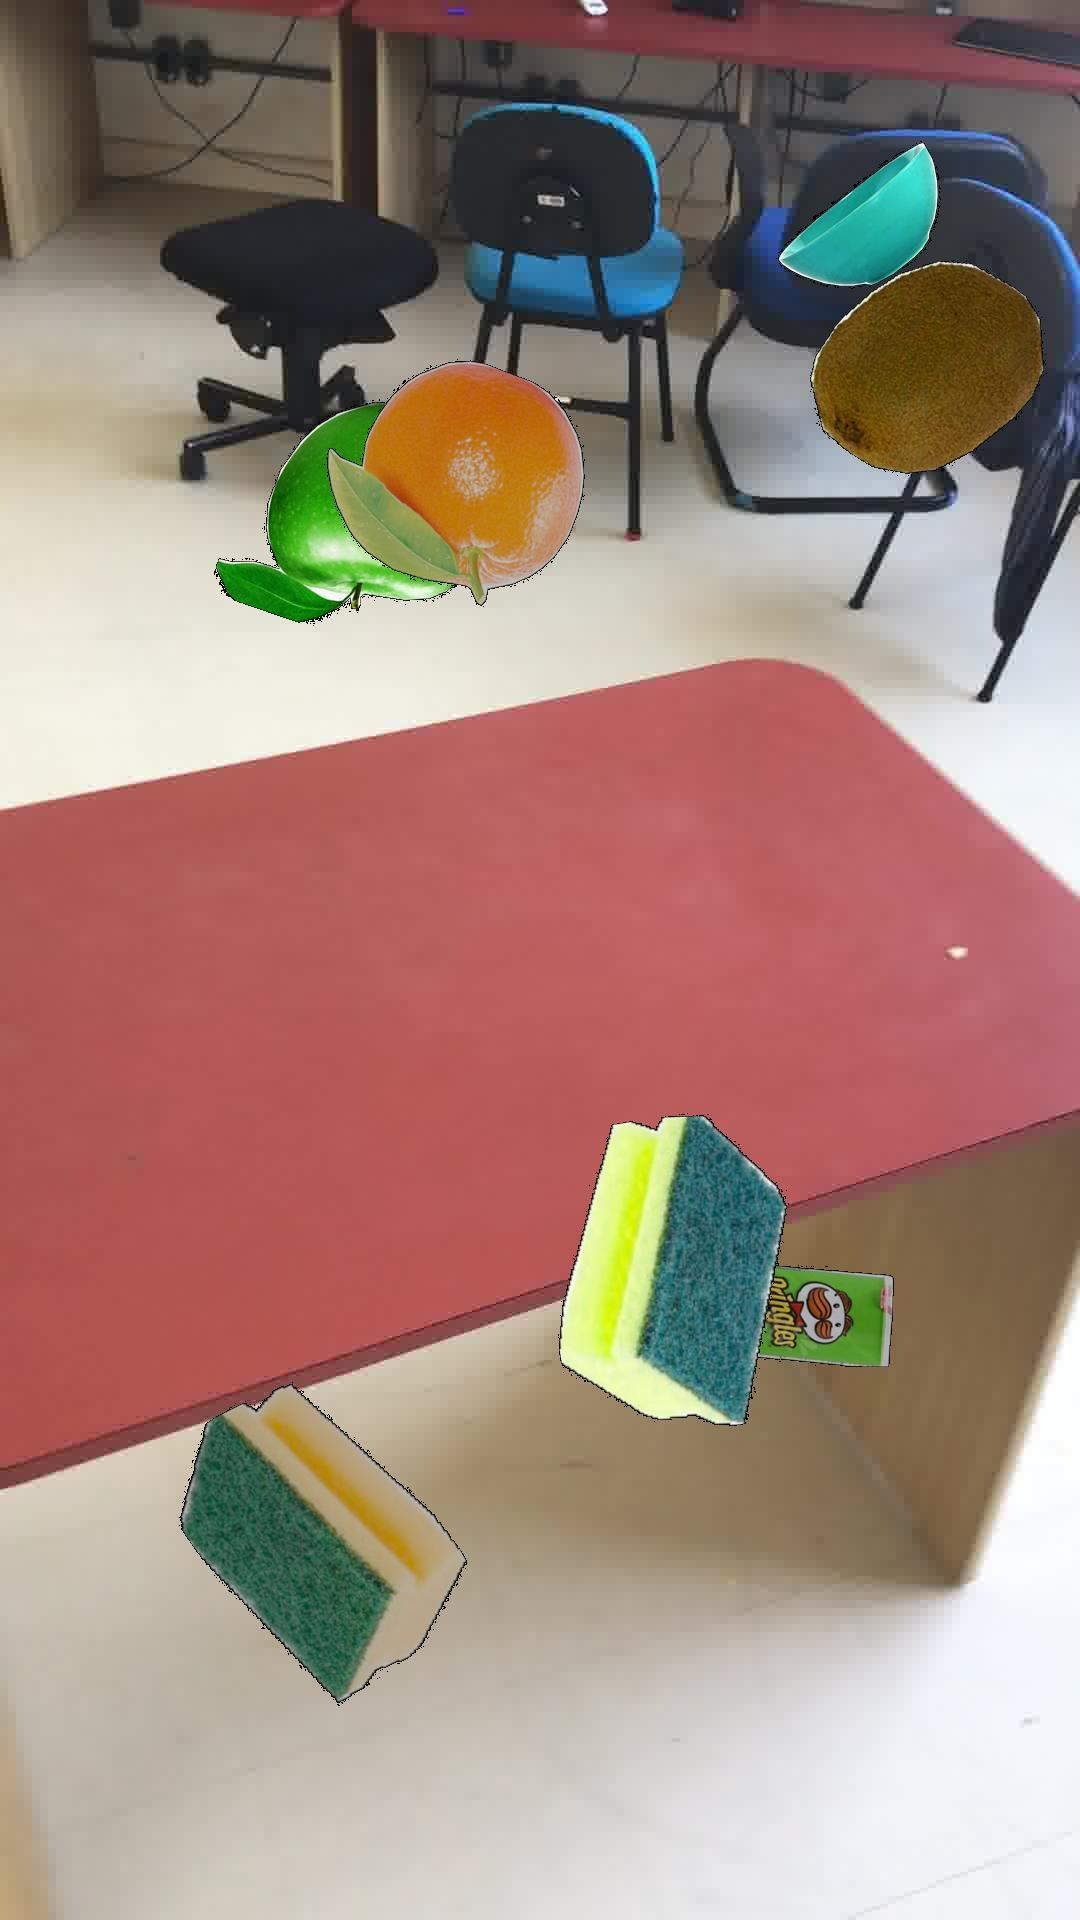bowl: (777, 141, 939, 286)
green apple: (215, 401, 452, 622)
kiwi: (808, 260, 1043, 472)
orange: (324, 359, 583, 604)
pringles: (757, 1265, 893, 1366)
sponge: (178, 1382, 465, 1701), (558, 1113, 786, 1424)
